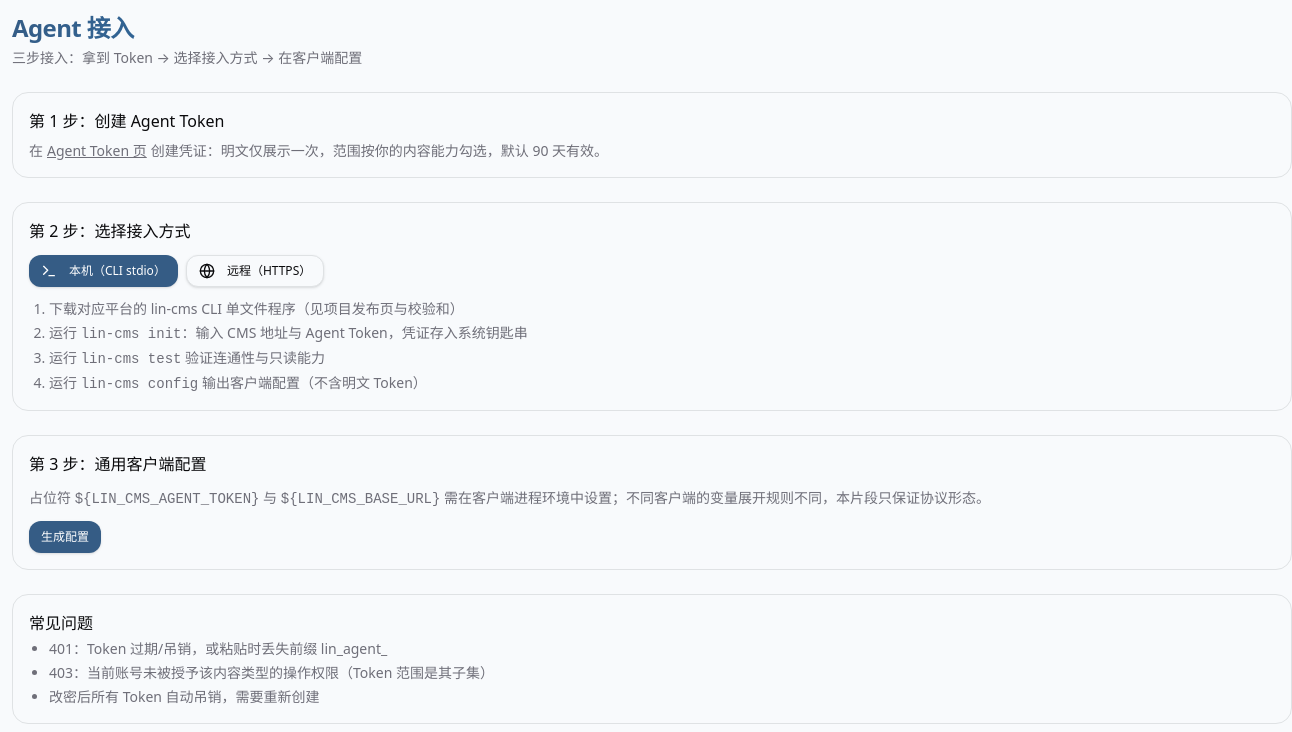
Test case: AgentAccessPage 接入向导 › 远程方式展示 HTTPS /mcp 端点说明
Click the button "远程（HTTPS）": (255, 271) [186,255,324,287]
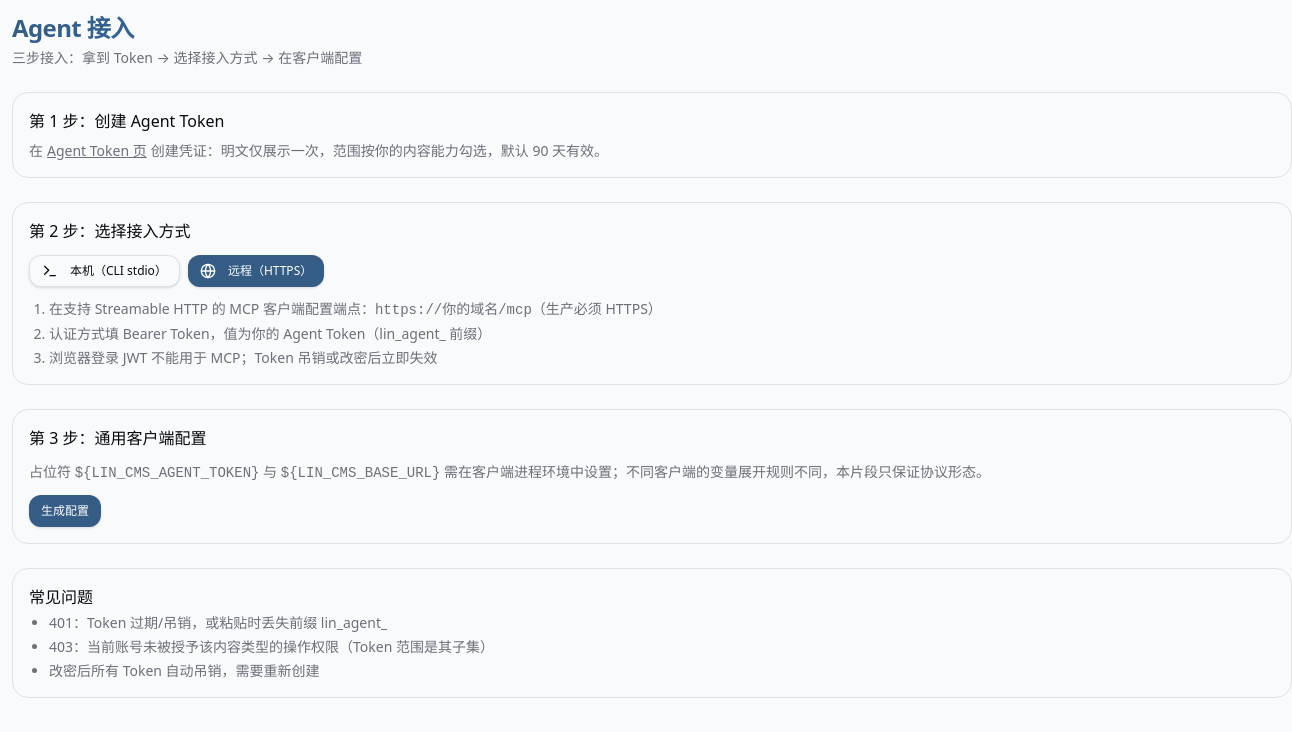
Result: the text "https://你的域名/mcp" is shown at [375,302,532,318]
